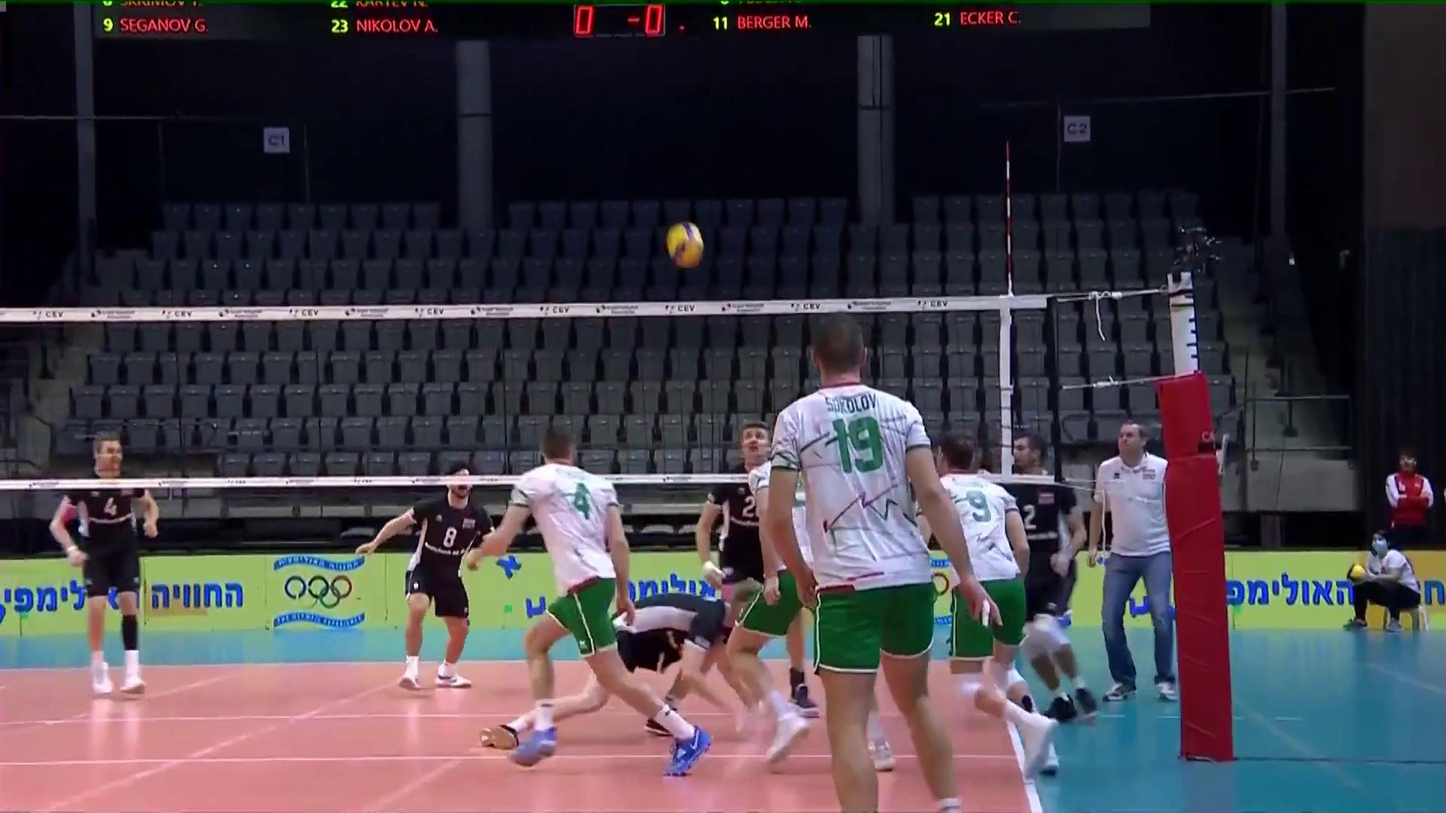ball: (666, 220, 706, 271)
